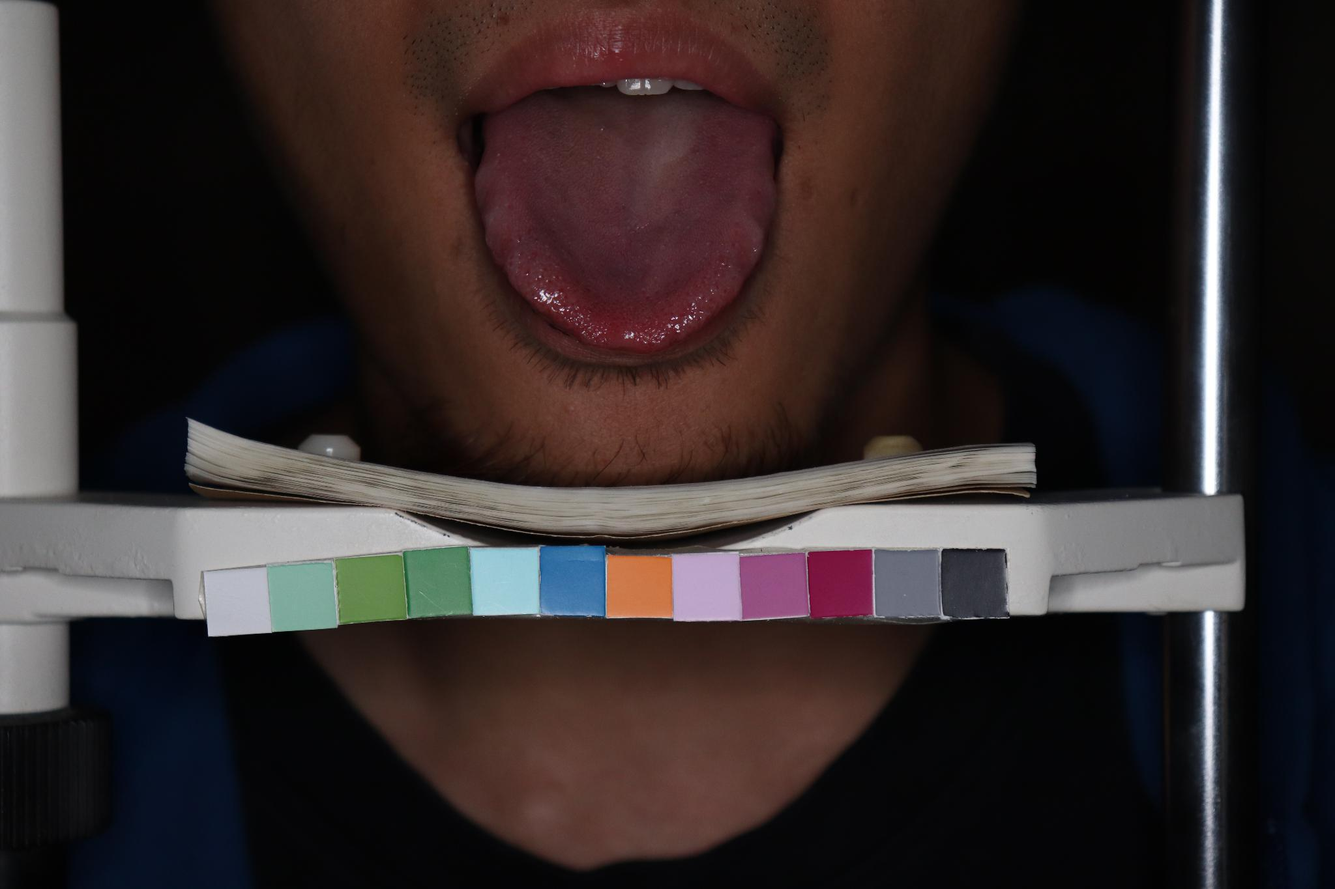baitaishe: (475, 90, 778, 350)
hongdianshe: (722, 287, 728, 295), (524, 270, 529, 277)
hongshe: (475, 90, 778, 350)
